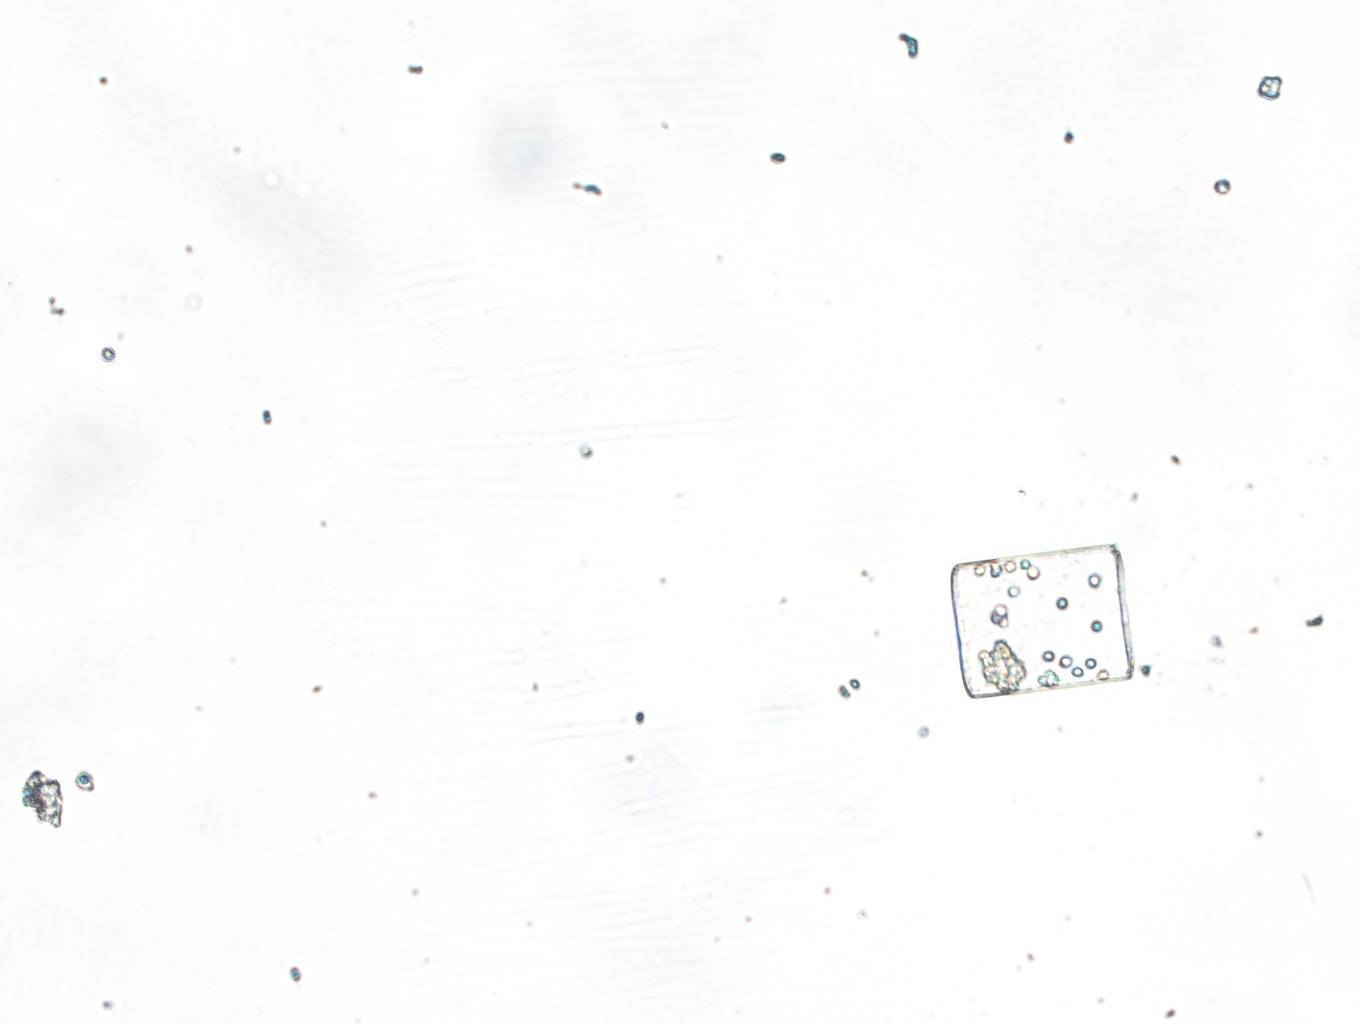guinardia flaccida: (947, 544, 1134, 699)
